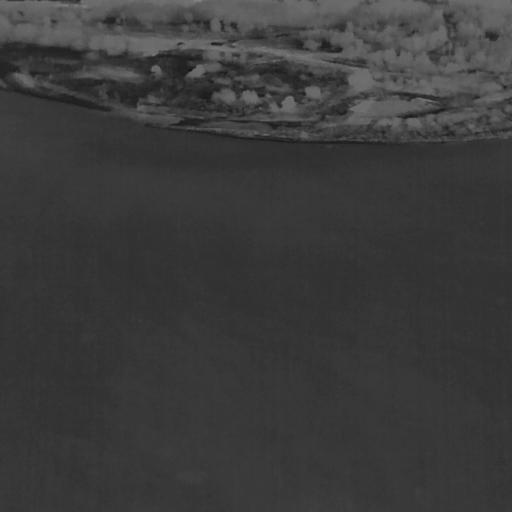uav: (136, 318, 144, 325)
